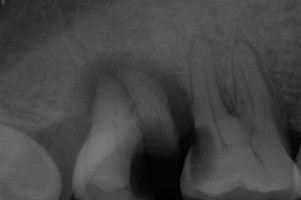Dental Caries: (75, 52, 192, 134)
Furcation Involvement: (188, 32, 223, 65)
